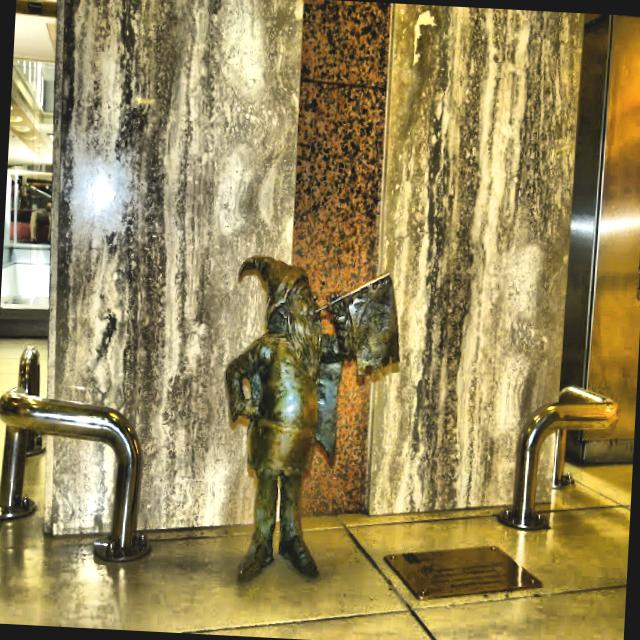Trabibrzuch: (226, 256, 399, 582)
